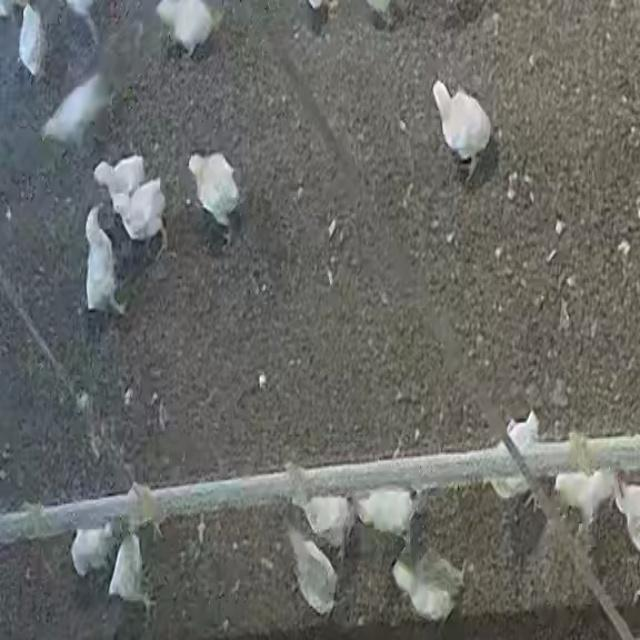chicken: (40, 62, 109, 160), (432, 76, 495, 183), (81, 202, 127, 321), (286, 524, 341, 622), (186, 149, 242, 240)
